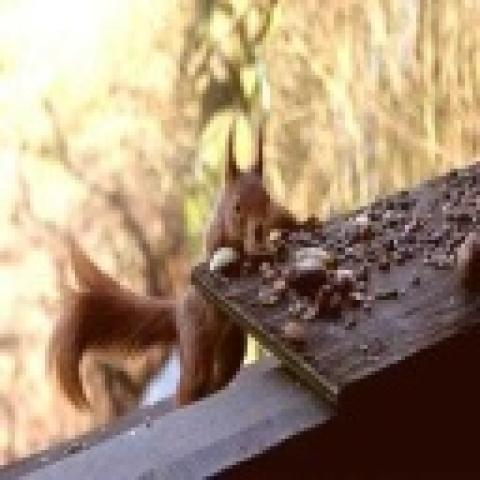small_animal: (46, 126, 299, 420)
